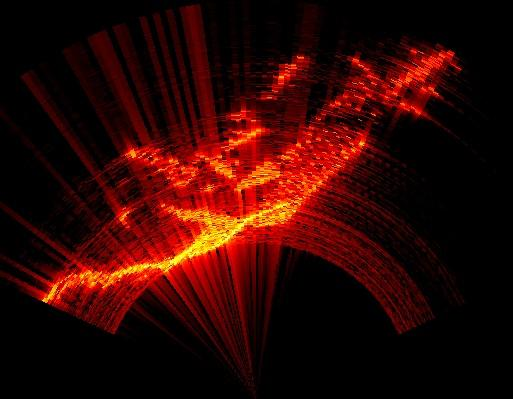shipwreck: (46, 197, 300, 299), (237, 131, 367, 196), (127, 145, 196, 186), (200, 130, 261, 173)
